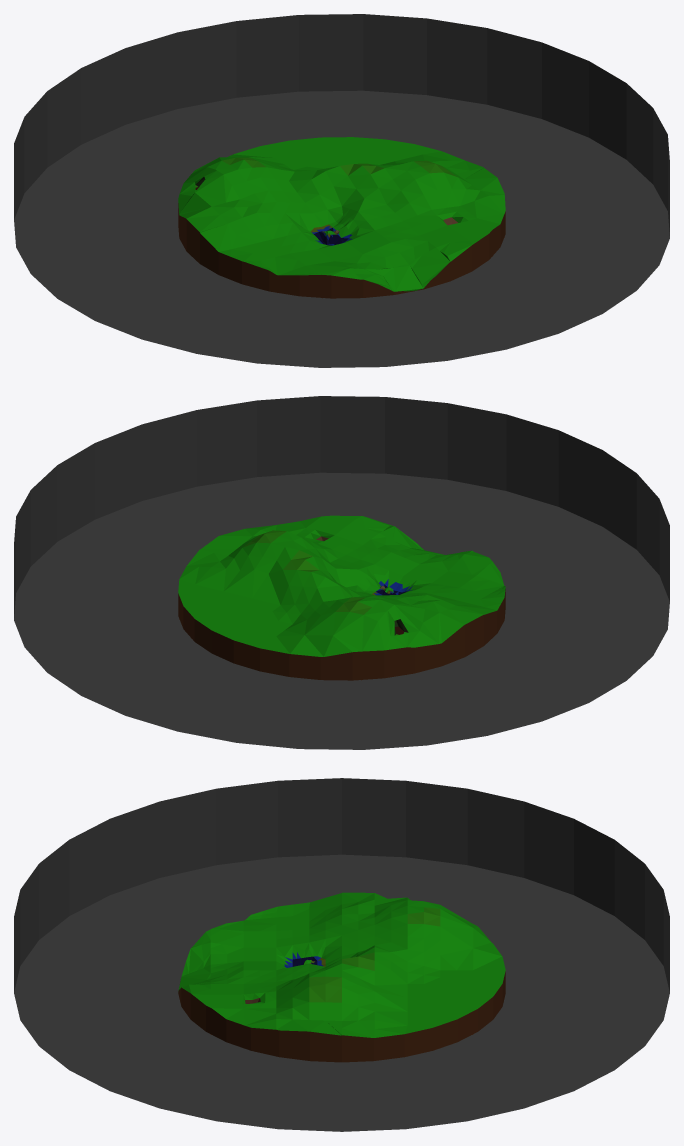
The model's file is DiscWorld09Base.obj.
3 views of the same model, one above another, from view 1: azimuth 30°, elevation 25°; view 2: azimuth 150°, elevation 25°; view 3: azimuth 270°, elevation 25° (orthographic).
Parts seen in each view (by area): view 1: BaseCircles, BorderWall; view 2: BaseCircles, BorderWall; view 3: BaseCircles, BorderWall.
Part boxes in pixels (x1=…): BaseCircles: x1=14, y1=90, x2=669, y2=367; BorderWall: x1=14, y1=14, x2=669, y2=235; BaseCircles: x1=14, y1=472, x2=669, y2=749; BorderWall: x1=14, y1=396, x2=669, y2=617; BaseCircles: x1=14, y1=854, x2=669, y2=1131; BorderWall: x1=14, y1=778, x2=669, y2=992.
Bounding box in the file's own units: 200 × 25.76 × 200.
